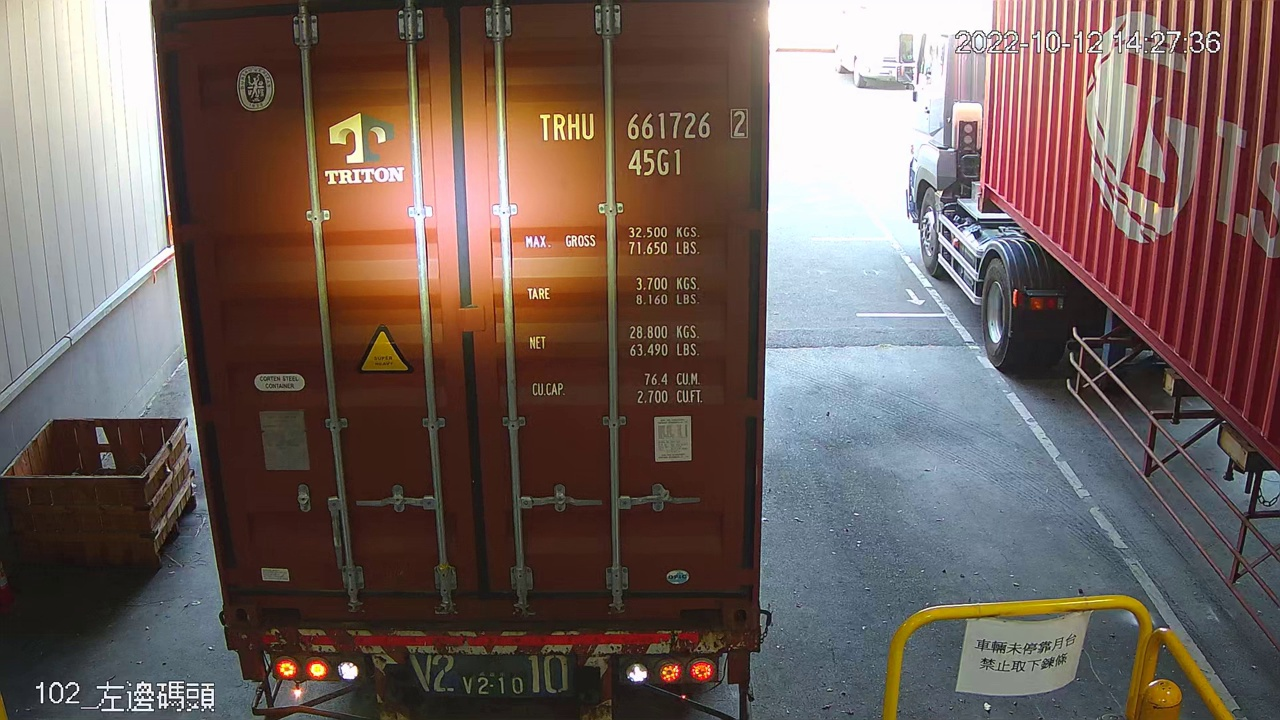container: (529, 104, 757, 184)
